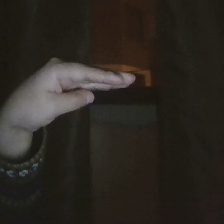H: (1, 53, 152, 142)
